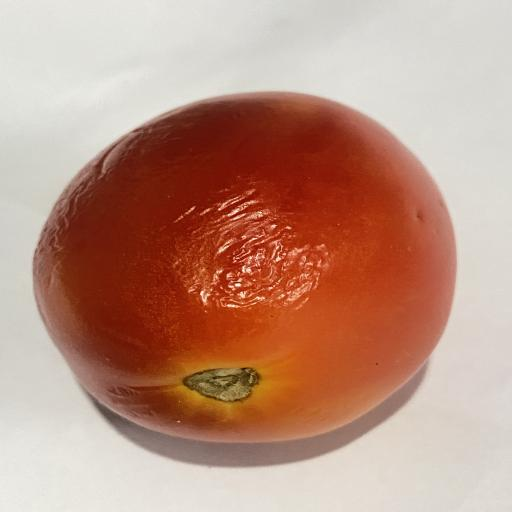spoiled: (34, 92, 456, 442)
